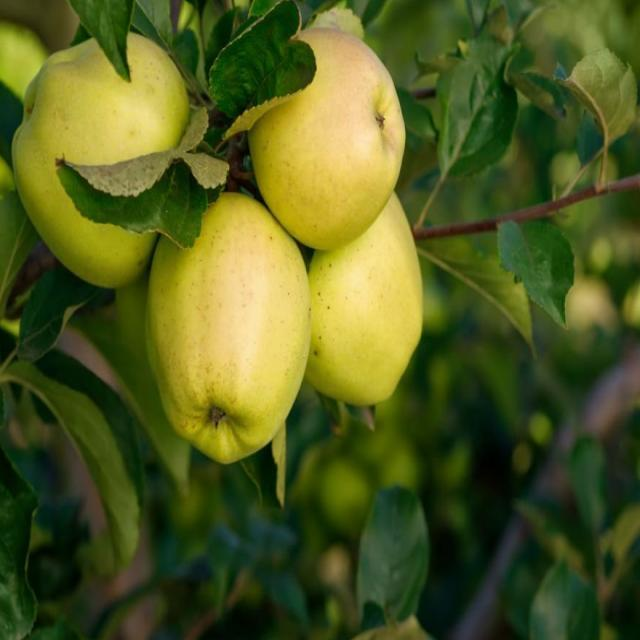Green Apple: (146, 175, 321, 459), (13, 27, 203, 275), (253, 22, 408, 241), (309, 186, 431, 403)
